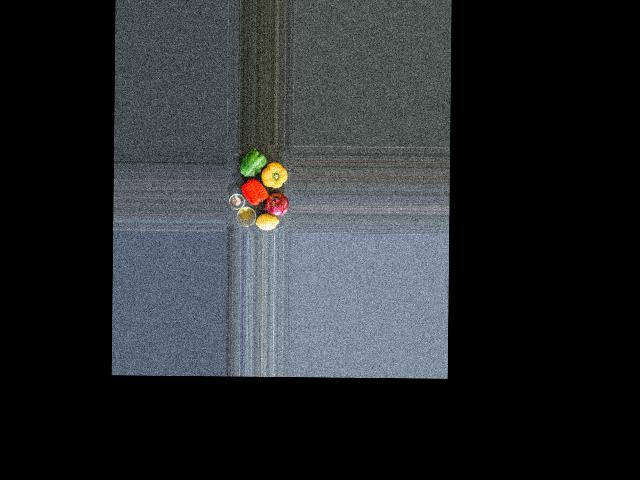bell_pepper: (240, 178, 269, 205)
